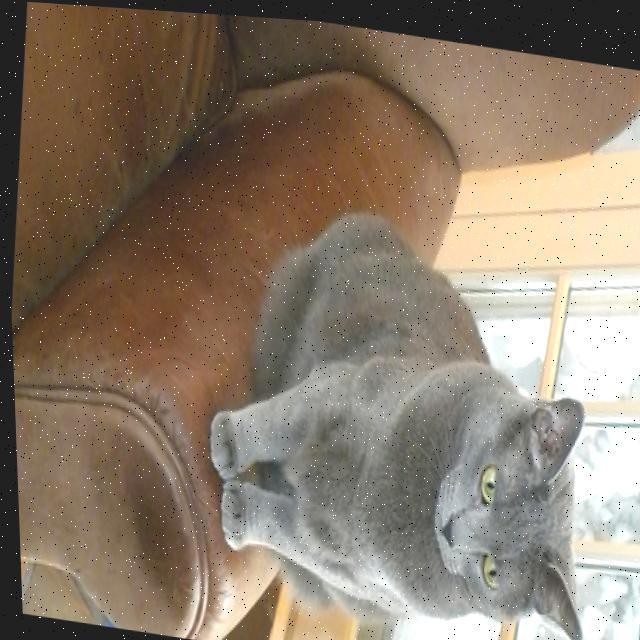Russian Blue: (180, 174, 619, 640)
